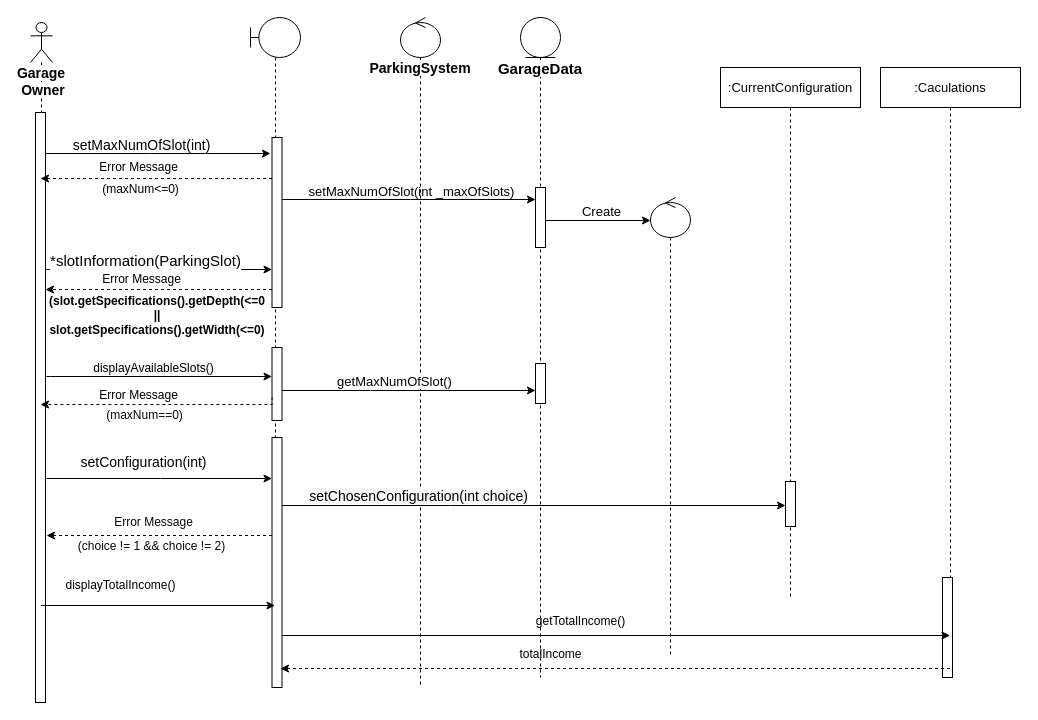
Some shapes in this 1038 by 720 pixel diagram are drawn without their labels. Each missing label, with the box of its shape:
InformationFromUser: (250, 16, 300, 688)
Struct: (650, 196, 690, 658)
